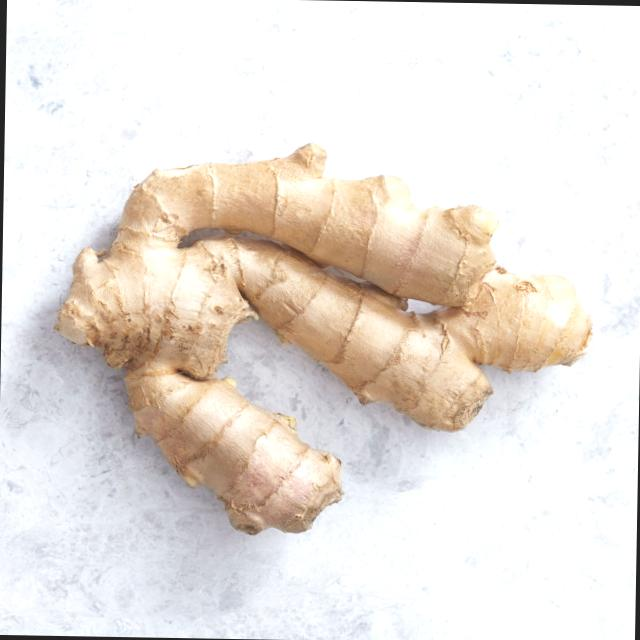ginger-root: (38, 129, 600, 561)
